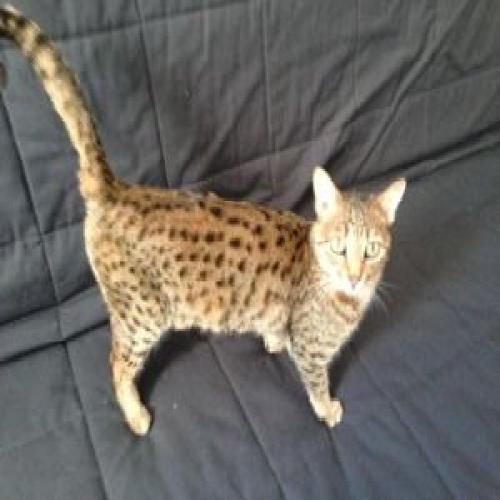cat-face: (307, 166, 405, 300)
